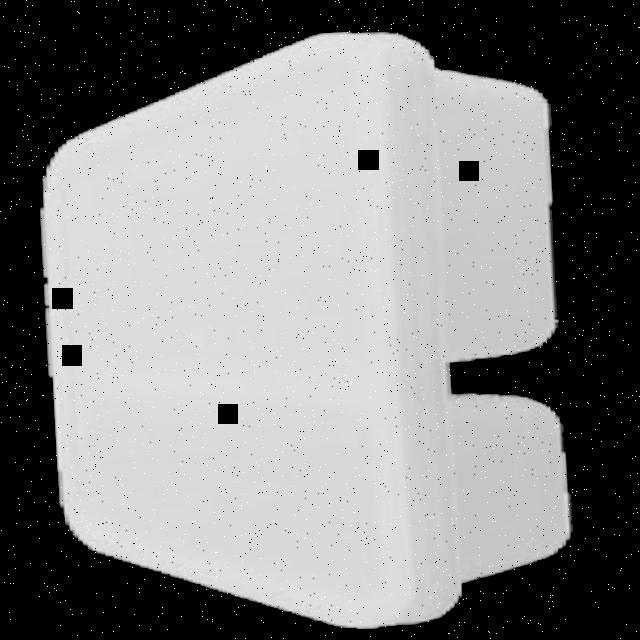plastic_box: (32, 21, 574, 640)
